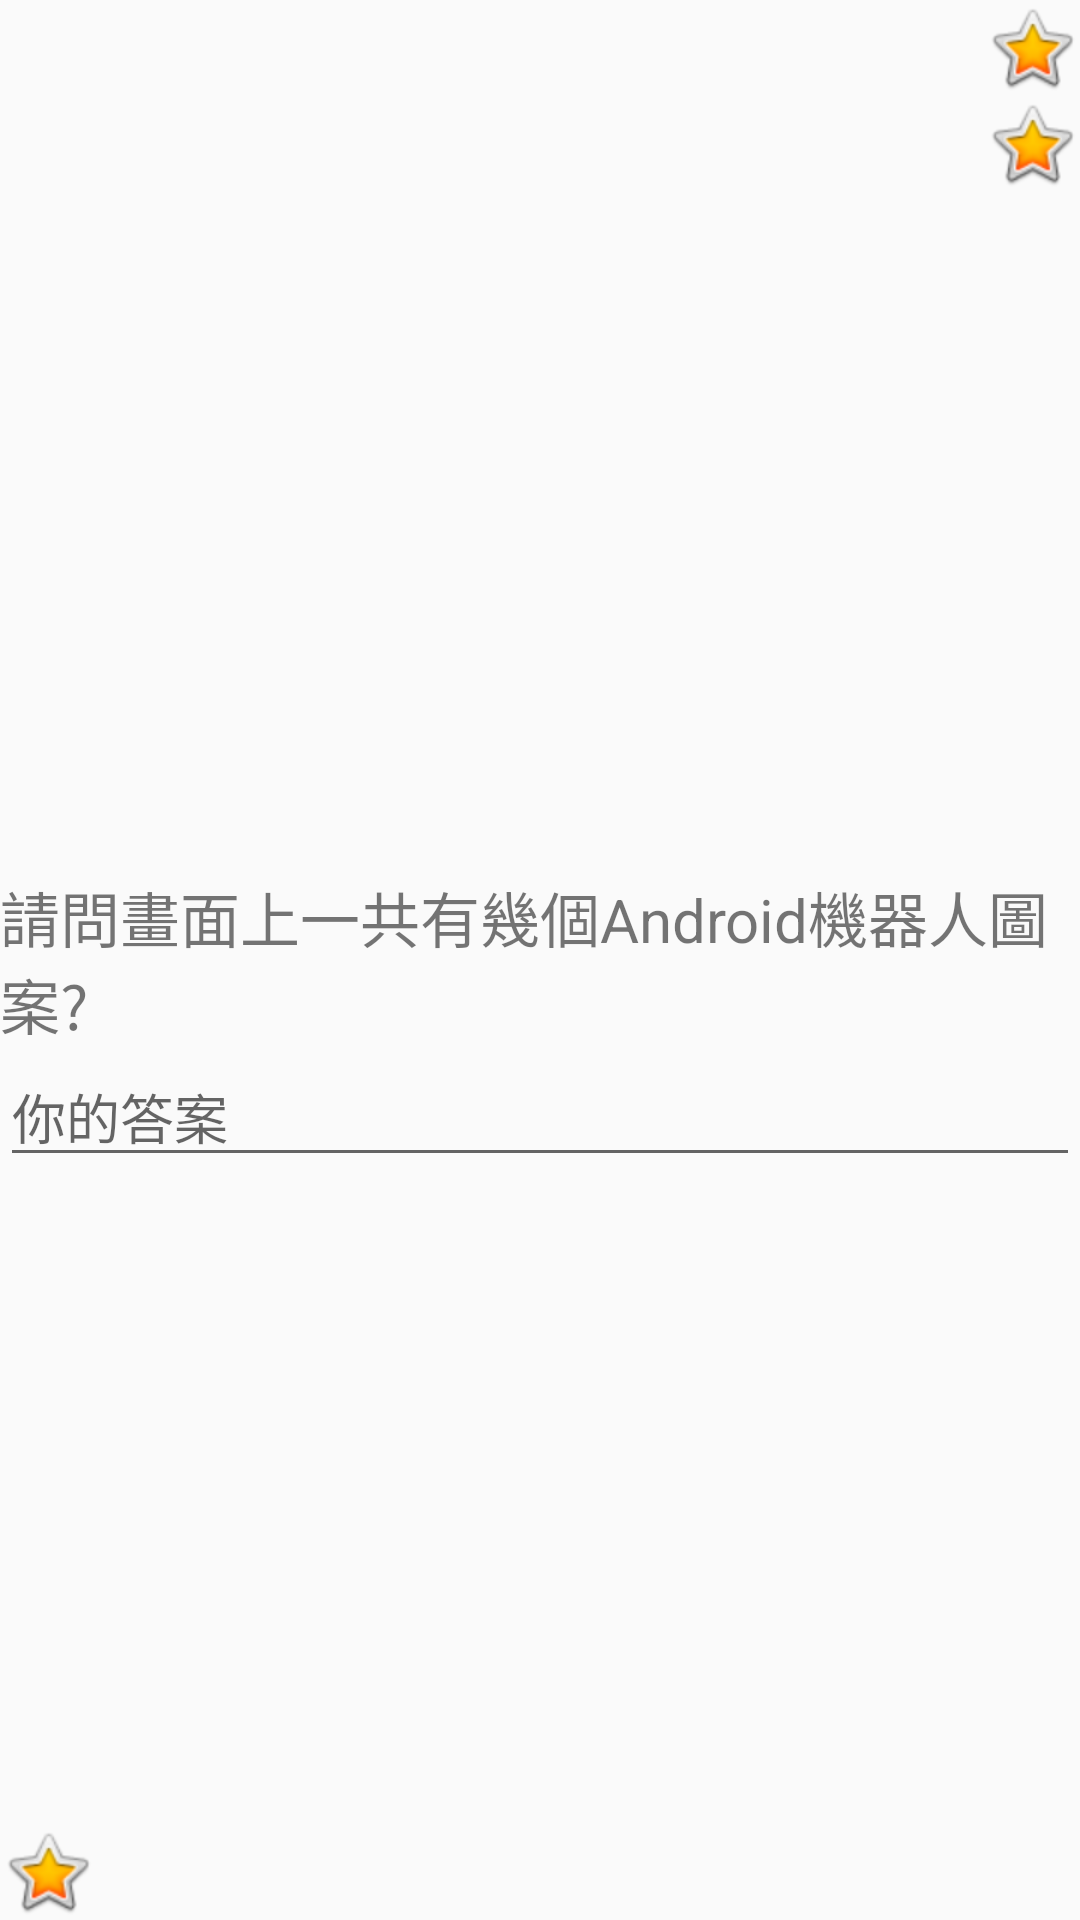

Named icons in this screenshot (1080x1920) and their centers, point (x, y):
star on: point (1033, 49), point (1033, 145), point (49, 1873)
